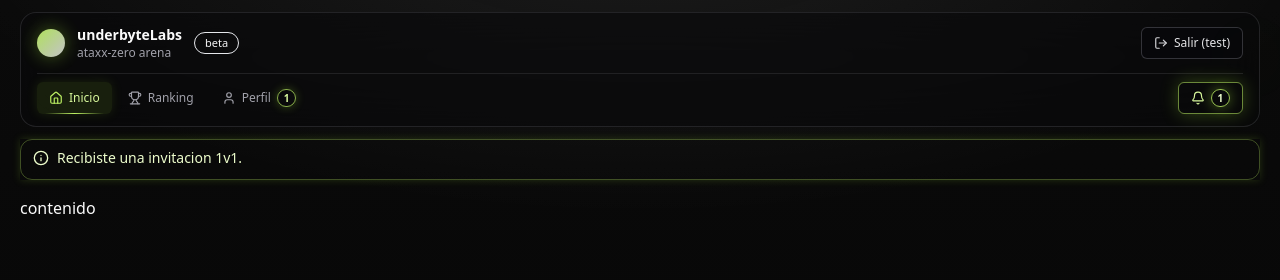
it: AppShell › opens invitation panel and renders actions for a pending invitation
The width and height of the screenshot is (1280, 280).
Click the button named "Ver invitaciones" at (1210, 98), box [1178, 82, 1243, 114]
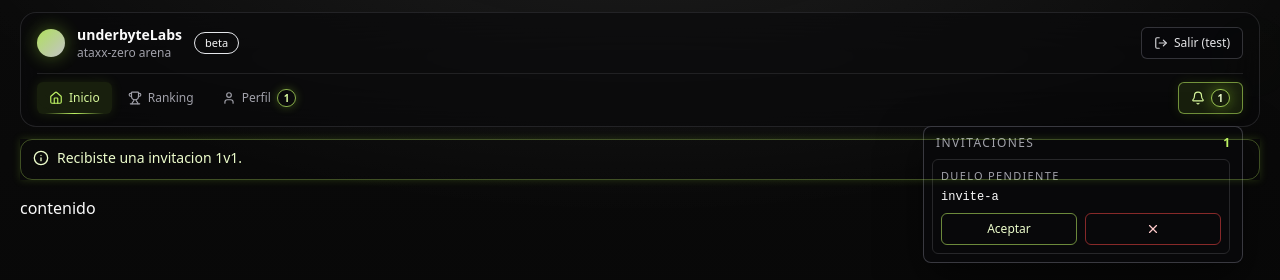
Expected: the text "invite-a" is shown, [941, 190, 999, 204]
Expected: the button "Aceptar" is shown, [941, 212, 1077, 244]
